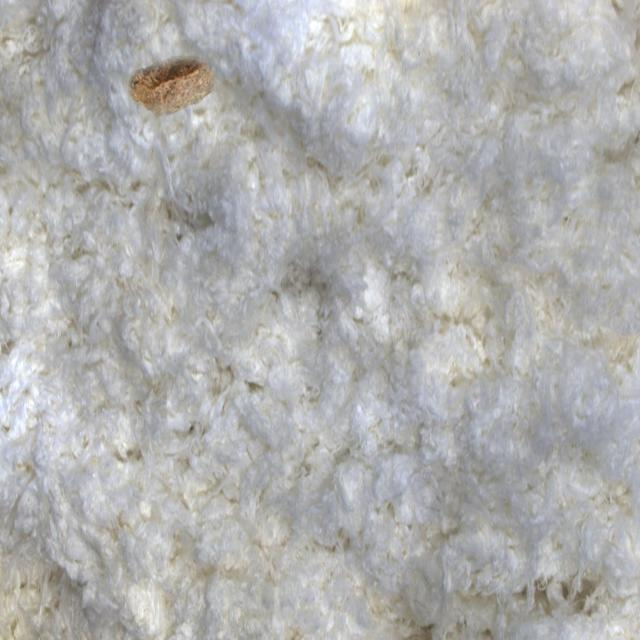dust: (92, 3, 239, 168)
